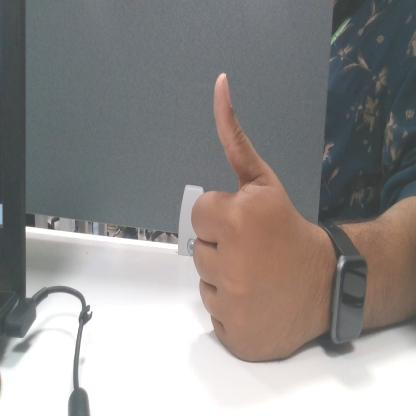Thumbs up: (189, 64, 296, 359)
